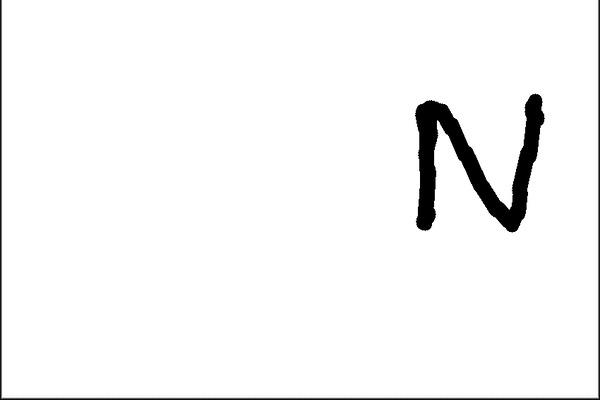N: (407, 86, 551, 247)
